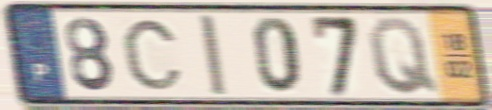0: (250, 14, 303, 96)
7: (309, 12, 361, 99)
8: (63, 15, 116, 94)
C: (120, 17, 186, 92)
I: (196, 13, 230, 98)
Q: (365, 15, 441, 98)
